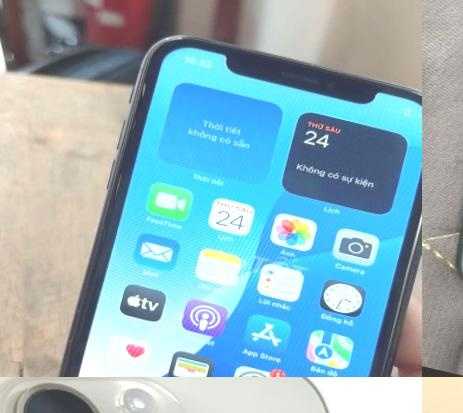scratch: (443, 194, 463, 377)
